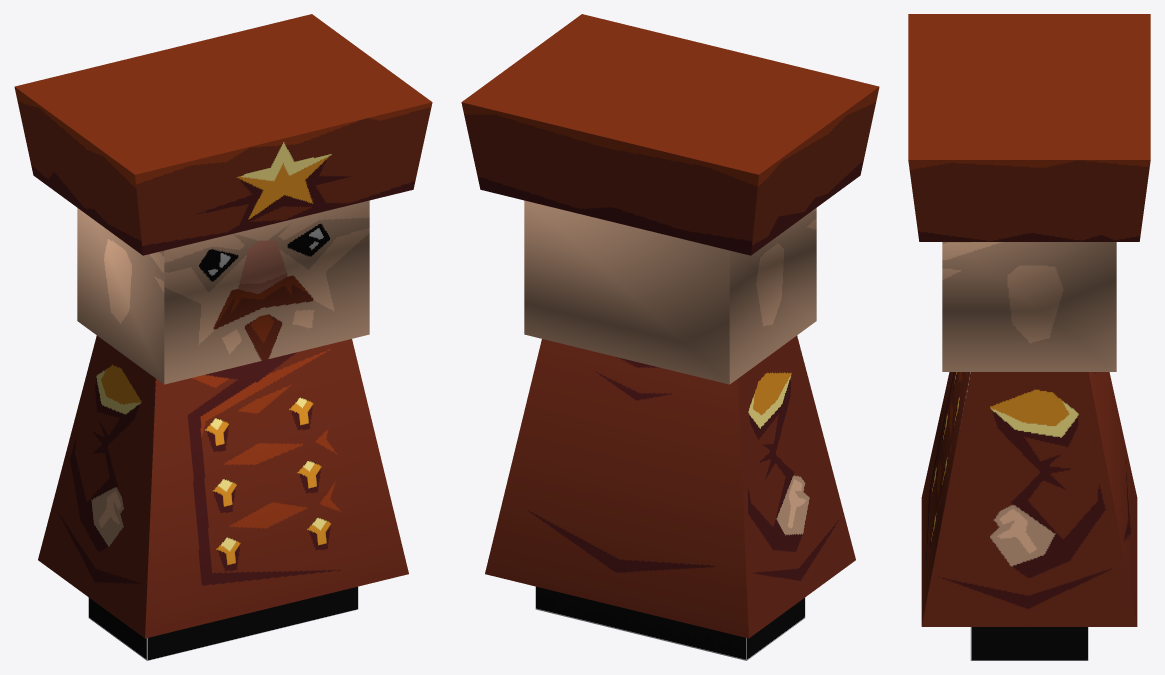
File: CharacterModel.fbx
3 views of the same model, side by side, from view 1: azimuth 30°, elevation 25°; view 2: azimuth 150°, elevation 25°; view 3: azimuth 270°, elevation 25° (orthographic).
Visible parts, largest first — view 1: Legs_1; view 2: Legs_1; view 3: Legs_1.
Boxes of the visible parts, <box> form: Legs_1: <box>14,14,432,660</box>; Legs_1: <box>461,14,879,660</box>; Legs_1: <box>908,14,1150,660</box>.
Size of the model in its own units: 48.08 by 80.18 by 33.74.
1 material, 1 textured.
